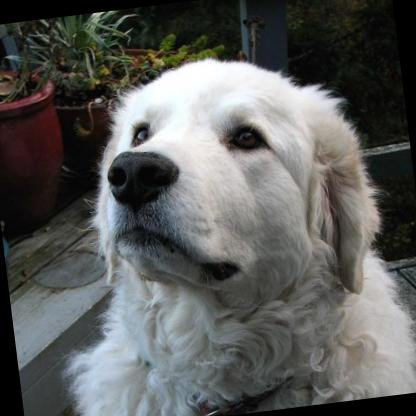kuvasz: (21, 34, 416, 416)
